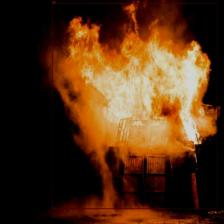fire: (52, 3, 218, 209)
